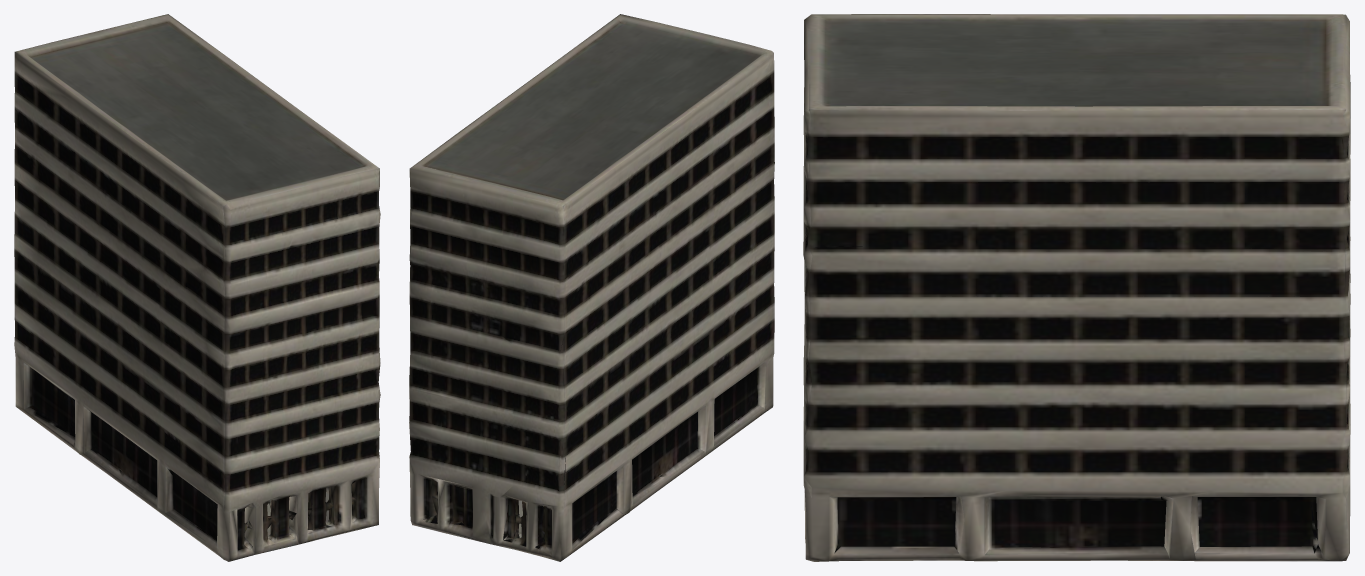
File: johnson_publishing_820_s_michigan.glb
3 views of the same model, side by side, from view 1: azimuth 30°, elevation 25°; view 2: azimuth 150°, elevation 25°; view 3: azimuth 270°, elevation 25° (orthographic). The views are drawn at different scales.
Parts seen in each view (by area): view 1: johnson_publishing_820_s_michigan; view 2: johnson_publishing_820_s_michigan; view 3: johnson_publishing_820_s_michigan.
Part boxes in pixels (<box>): johnson_publishing_820_s_michigan: <box>14,14,380,561</box>; johnson_publishing_820_s_michigan: <box>409,14,774,561</box>; johnson_publishing_820_s_michigan: <box>803,14,1350,561</box>.
Bounding box in the file's own units: 21 × 46 × 50.
Materials: 1 (1 with a texture image).
